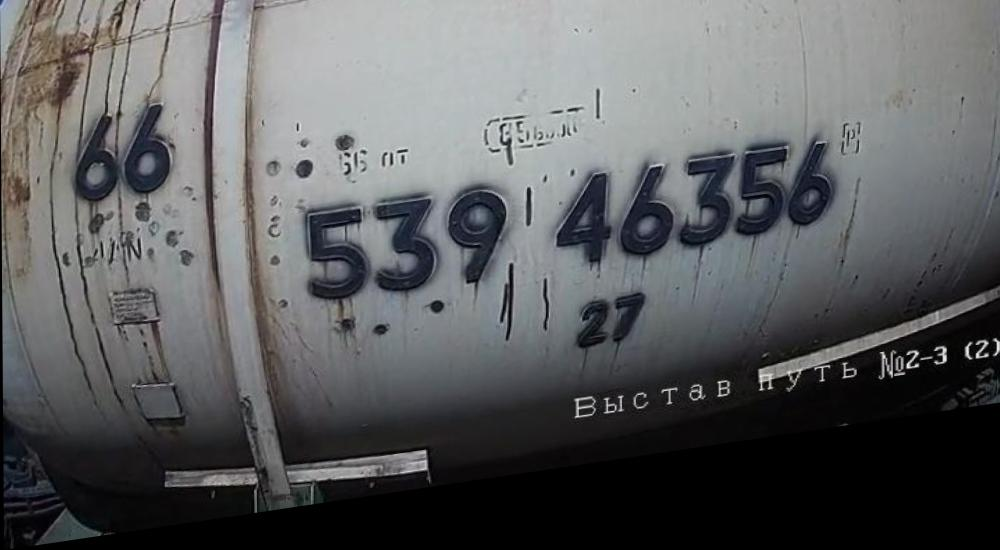Wagon-number: (298, 150, 835, 322)
